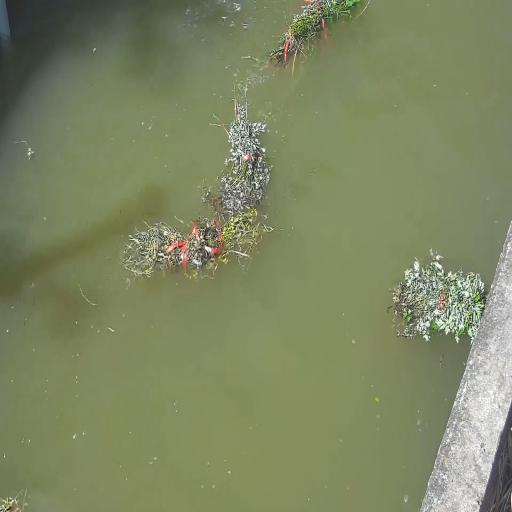twig: (126, 211, 262, 281), (390, 250, 486, 344), (212, 91, 272, 219), (273, 1, 364, 75)
